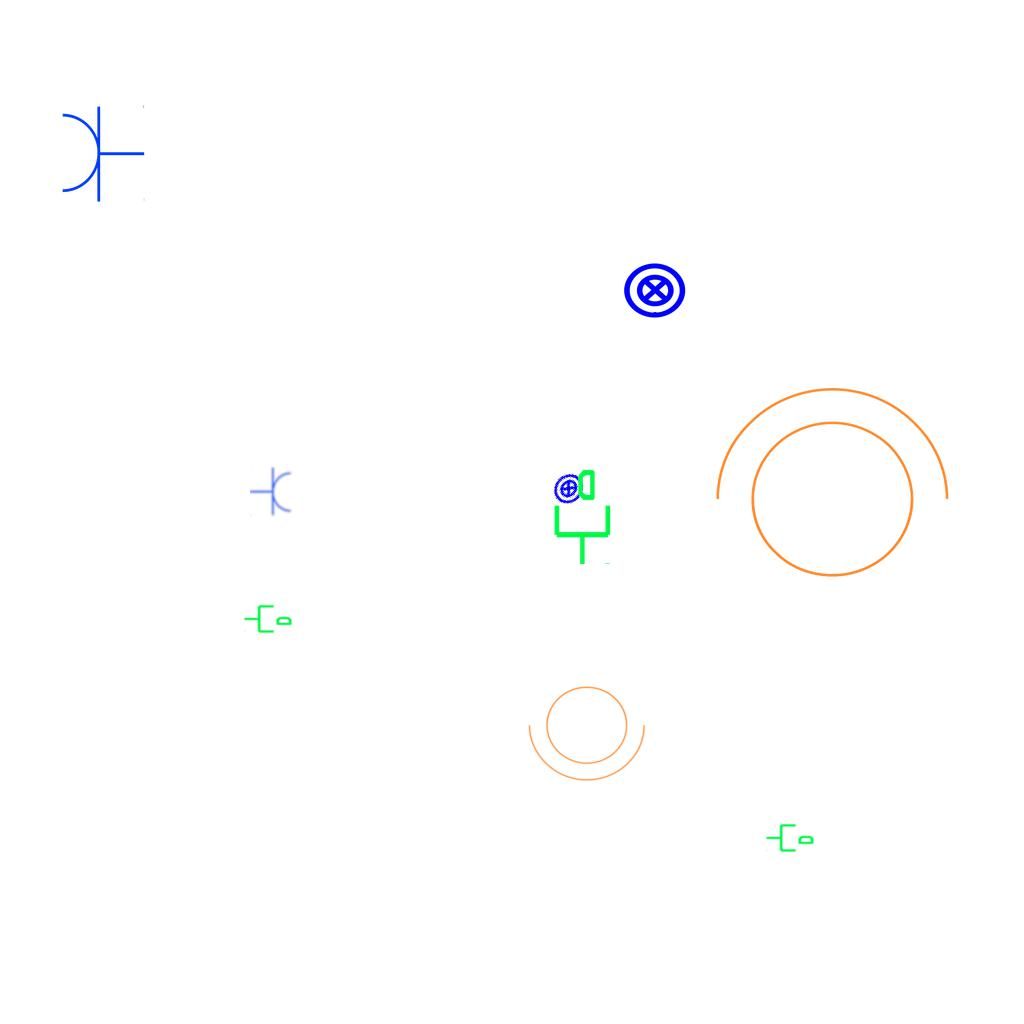Datenanschluss_einfach: (546, 467, 615, 567), (243, 601, 293, 635), (765, 820, 815, 854)
Scheinwerfer_fuer_Alarmbeleuchtung: (694, 377, 958, 602), (524, 674, 656, 786)
Schukosteckdose_einfach: (58, 103, 145, 203), (250, 467, 293, 517)
Taster_beleuchtet: (622, 257, 688, 323), (545, 465, 592, 512)
